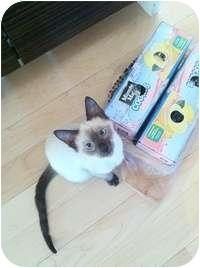siamese: (51, 89, 141, 177)
